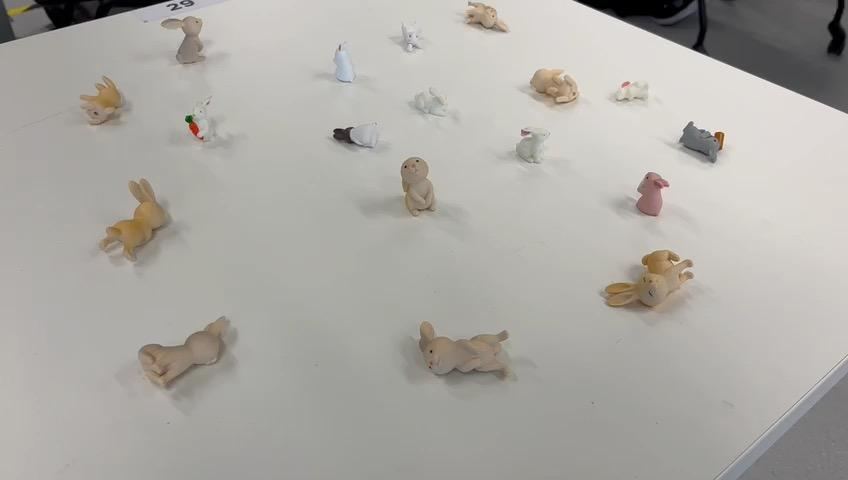pet: (136, 312, 235, 389), (407, 318, 515, 386), (95, 174, 171, 267), (598, 244, 697, 313), (159, 12, 212, 68), (526, 61, 585, 109), (396, 154, 439, 217), (77, 74, 126, 127), (678, 114, 728, 165), (182, 94, 219, 152), (636, 167, 671, 220), (412, 81, 456, 122), (461, 0, 512, 35), (330, 117, 383, 150), (518, 120, 555, 164), (329, 37, 362, 85), (608, 78, 652, 105), (399, 17, 427, 57)
